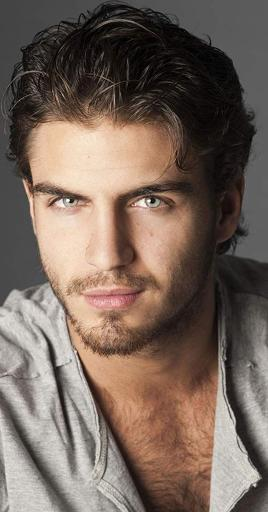left_eye: (129, 193, 178, 215)
left_lip_corner: (135, 284, 150, 302)
right_eye: (50, 193, 90, 214)
right_lip_corner: (82, 288, 97, 306)
